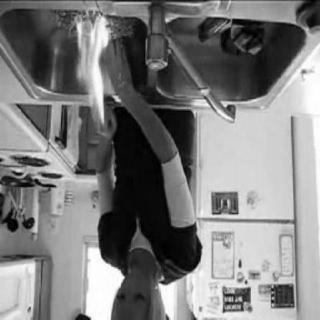Fire: (55, 6, 137, 139)
